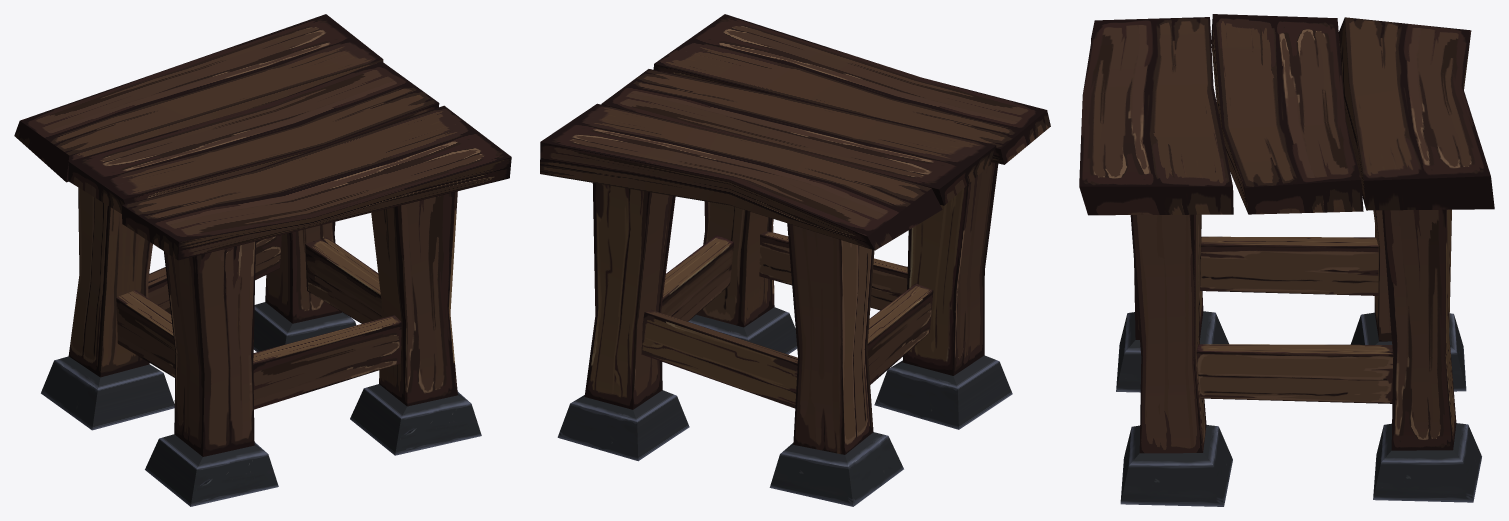
The model's file is SM_PROP_table_dungeon_02.fbx.
The picture shows the model from 3 angles, left to right: view 1: azimuth 30°, elevation 25°; view 2: azimuth 150°, elevation 25°; view 3: azimuth 270°, elevation 25°; orthographic projection. The views are drawn at different scales.
Parts seen in each view (by area): view 1: SM_PROP_table_dungeon_02; view 2: SM_PROP_table_dungeon_02; view 3: SM_PROP_table_dungeon_02.
Part boxes in pixels (box(x1,y1,x2,y2)): SM_PROP_table_dungeon_02: box(14, 14, 511, 506); SM_PROP_table_dungeon_02: box(540, 14, 1050, 506); SM_PROP_table_dungeon_02: box(1079, 14, 1494, 506).
Size of the model in its own units: 82.35 by 69.96 by 79.01.
